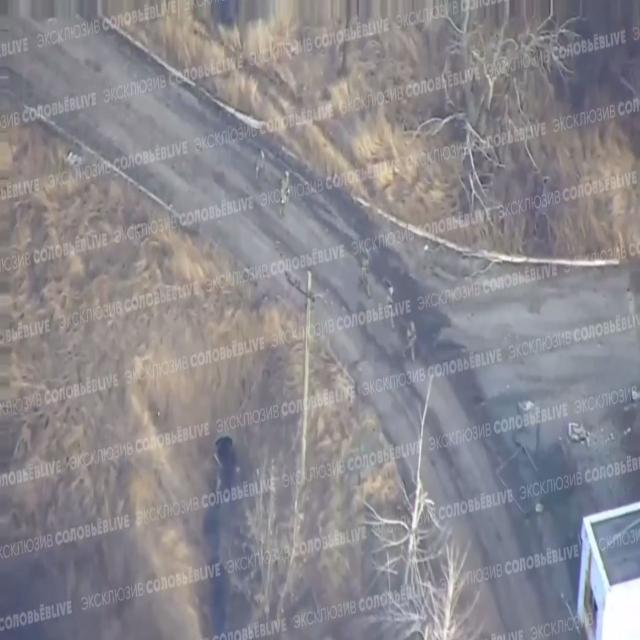fortification: (554, 445, 640, 640)
infantry: (274, 166, 299, 231), (248, 141, 272, 192), (352, 240, 373, 296), (382, 274, 398, 338), (404, 312, 420, 371)
